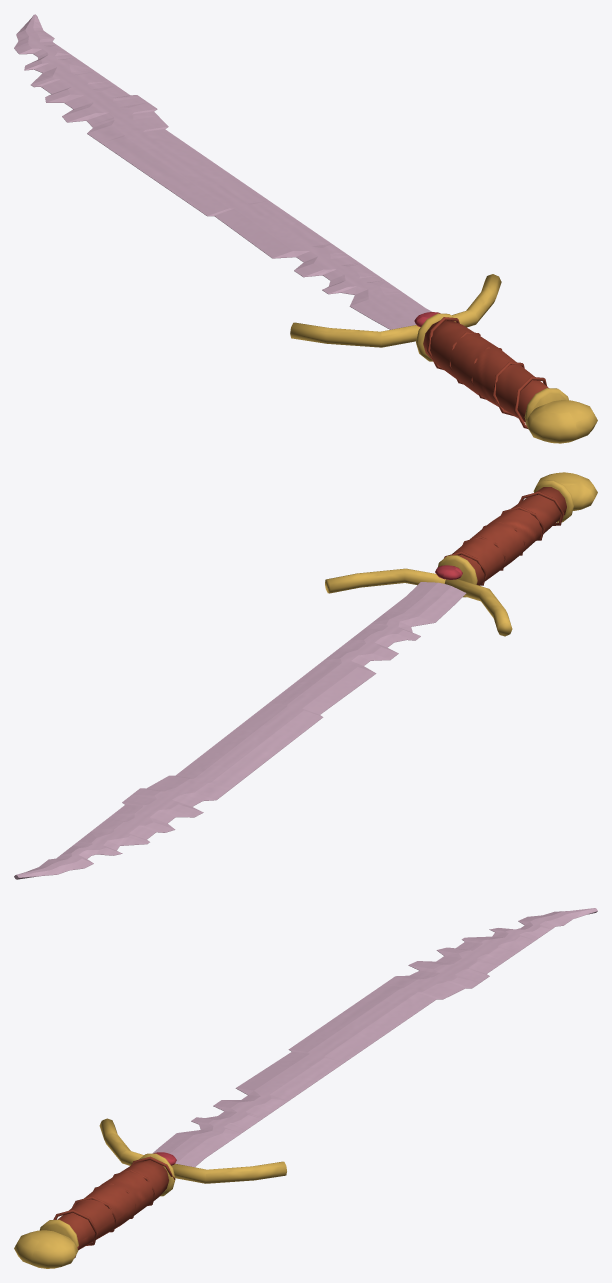
Rendered from item_cutlass3.glb.
3 views of the same model, one above another, from view 1: azimuth 30°, elevation 25°; view 2: azimuth 150°, elevation 25°; view 3: azimuth 330°, elevation 25° (orthographic). The views are drawn at different scales.
Visible parts, largest first — view 1: swords_cutlass3; view 2: swords_cutlass3; view 3: swords_cutlass3.
Part boxes in pixels (<box>): swords_cutlass3: <box>14,14,597,443</box>; swords_cutlass3: <box>14,472,597,879</box>; swords_cutlass3: <box>14,908,597,1268</box>.
Bounding box in the file's own units: 0.2864 × 0.067 × 1.38.
1 material, 1 textured.
